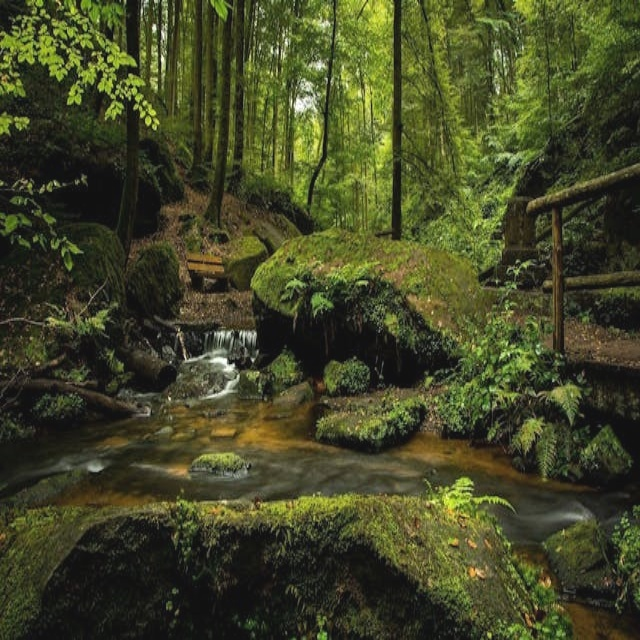algae_bloom: (0, 0, 640, 316), (362, 261, 631, 476)
clean_water: (13, 13, 627, 627)
oil_spill: (24, 519, 469, 640), (0, 286, 214, 432), (0, 134, 180, 237)
turbid_water: (0, 0, 640, 640)
